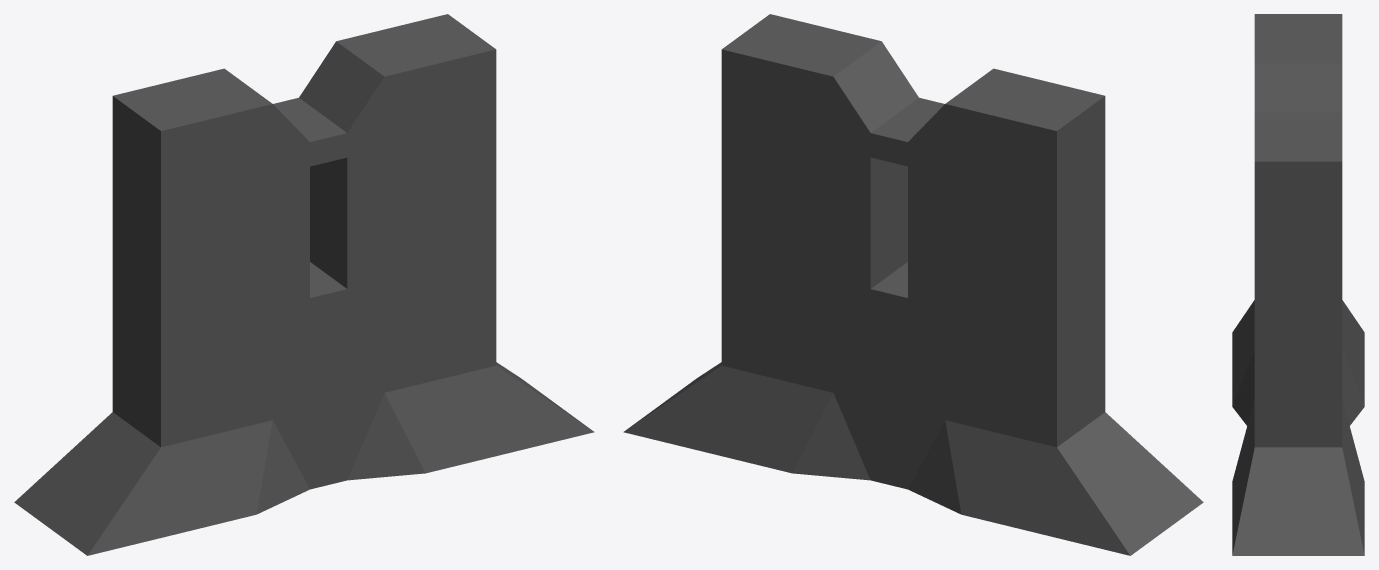
Rendered from Decorations_barricade.fbx.
3 renders of one model, left to right at view 1: azimuth 30°, elevation 25°; view 2: azimuth 150°, elevation 25°; view 3: azimuth 270°, elevation 25°, orthographic. The views are drawn at different scales.
Parts seen in each view (by area): view 1: Barricade; view 2: Barricade; view 3: Barricade.
Boxes of the visible parts, x1,y1,x2,y2 form: Barricade: [14, 14, 594, 555]; Barricade: [623, 14, 1203, 555]; Barricade: [1232, 14, 1364, 555].
Size of the model in its own units: 1211 by 900 by 303.
Materials: 1 (1 with a texture image).
